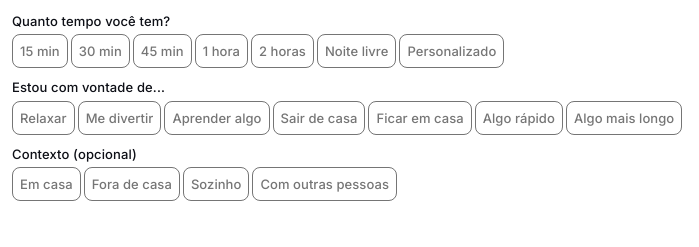
Test case: TimeAvailabilitySuggester › shows an empty message when nothing fits
Click the button "15 min": {"x": 40, "y": 51} [12,34,68,68]
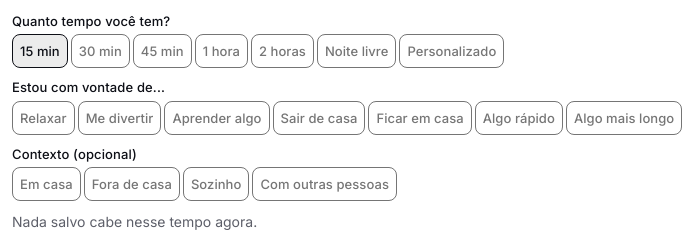
Result: the text "Nada salvo cabe nesse tempo agora." is shown at [12,213,257,230]
